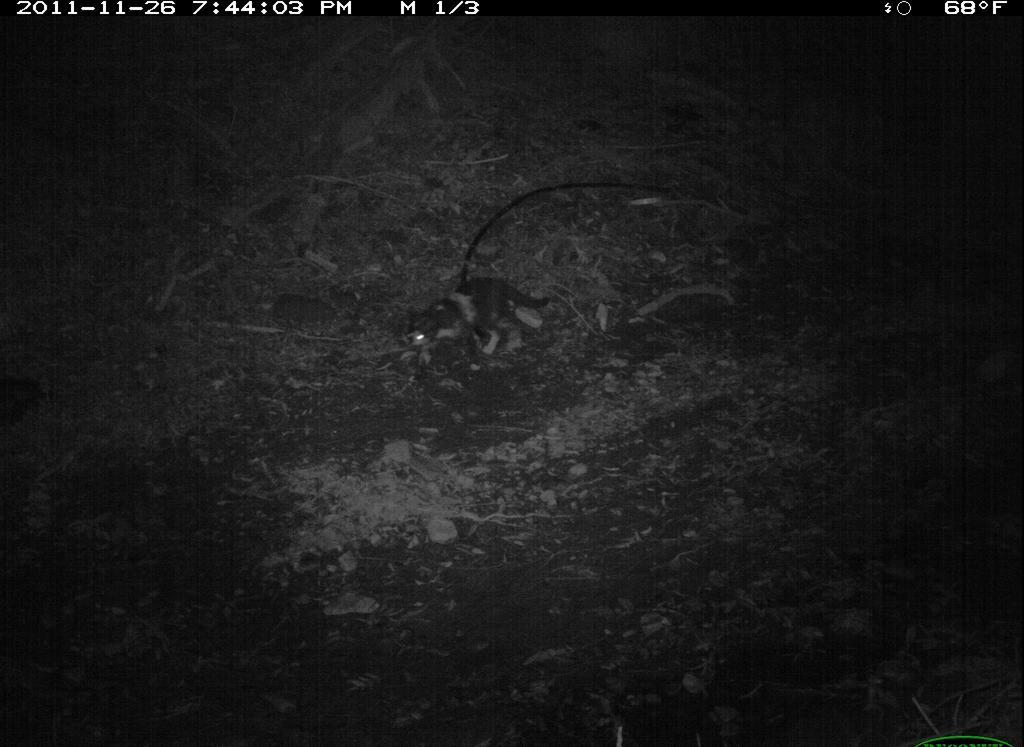cat: (397, 268, 556, 369)
